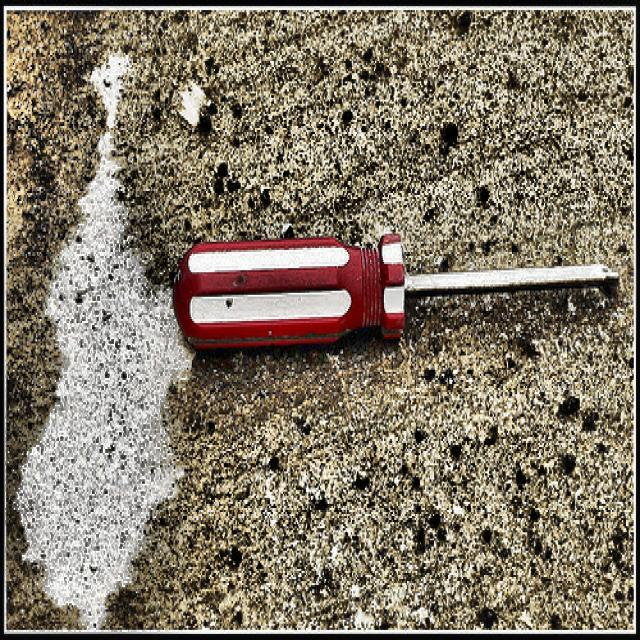screwdriver: (172, 234, 618, 344)
